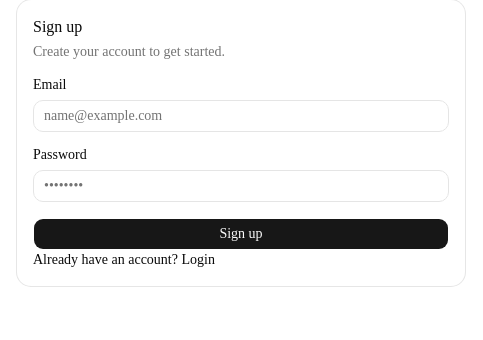
Test case: auth flow › shows an error for duplicate signup email
Type "new@example.com" into the field with test id "auth-signup-email" at (241, 116), box top-left (33, 100), bottom-right (449, 132)
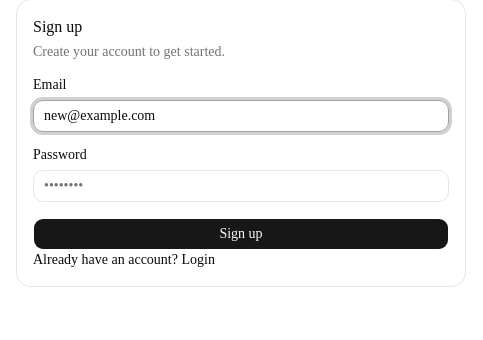
Type "password123" into the password field with test id "auth-signup-password" at (241, 186), box top-left (33, 170), bottom-right (449, 202)
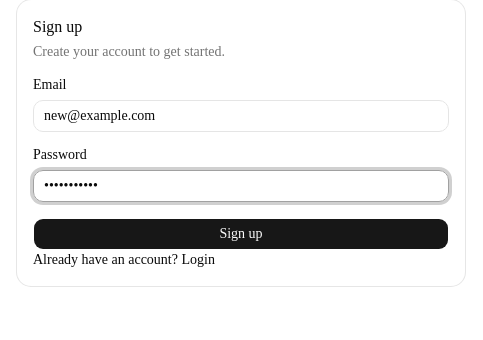
Click the button with test id "auth-signup-submit" at (241, 234), box top-left (33, 218), bottom-right (449, 250)
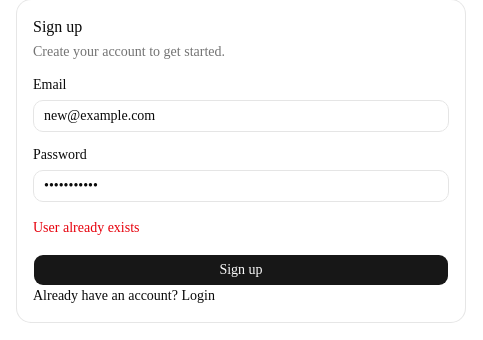
Expected: the message reads "User already exists", top-left (33, 220), bottom-right (140, 235)
